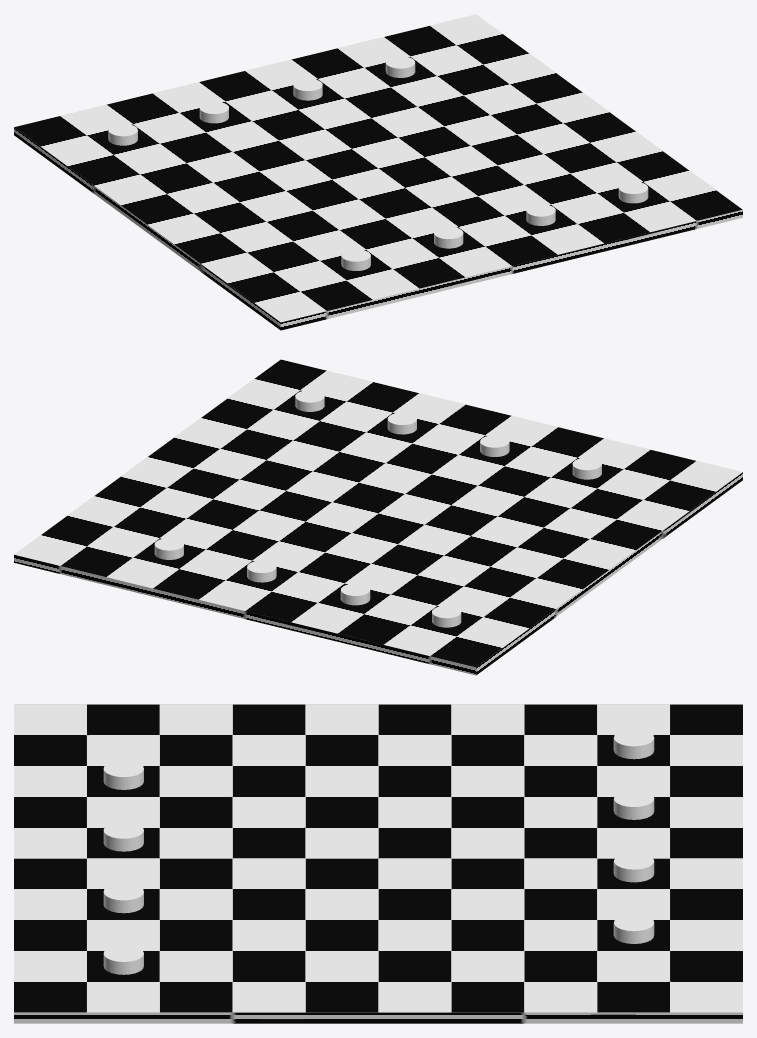
The model's file is tenjo5.fbx.
3 renders of one model, top to bottom at view 1: azimuth 30°, elevation 25°; view 2: azimuth 150°, elevation 25°; view 3: azimuth 270°, elevation 25°, orthographic. The views are drawn at different scales.
Parts seen in each view (by area): view 1: pCube5, pCylinder1 (×2), pCylinder3 (×2), pCylinder2 (×2), pCylinder4 (×2); view 2: pCube5, pCylinder3 (×2), pCylinder2 (×2), pCylinder4 (×2), pCylinder1 (×2); view 3: pCube5, pCylinder2 (×2), pCylinder4 (×2), pCylinder3 (×2), pCylinder1 (×2).
Part boxes in pixels (x1,y1,x2,y2): pCube5: (14,14,742,330); pCylinder1 (×2): (385,56,648,203); pCylinder3 (×2): (199,101,463,248); pCylinder2 (×2): (293,78,555,225); pCylinder4 (×2): (108,124,370,270); pCube5: (14,359,742,675); pCylinder3 (×2): (340,435,509,605); pCylinder2 (×2): (247,412,416,582); pCylinder4 (×2): (432,457,601,627); pCylinder1 (×2): (154,390,324,559); pCube5: (14,704,742,1023); pCylinder2 (×2): (103,852,654,913); pCylinder4 (×2): (103,729,654,789); pCylinder3 (×2): (103,790,654,851); pCylinder1 (×2): (103,914,654,974).
Size of the model in its own units: 1800 by 100 by 1800.
Materials: 2 (1 with a texture image).
